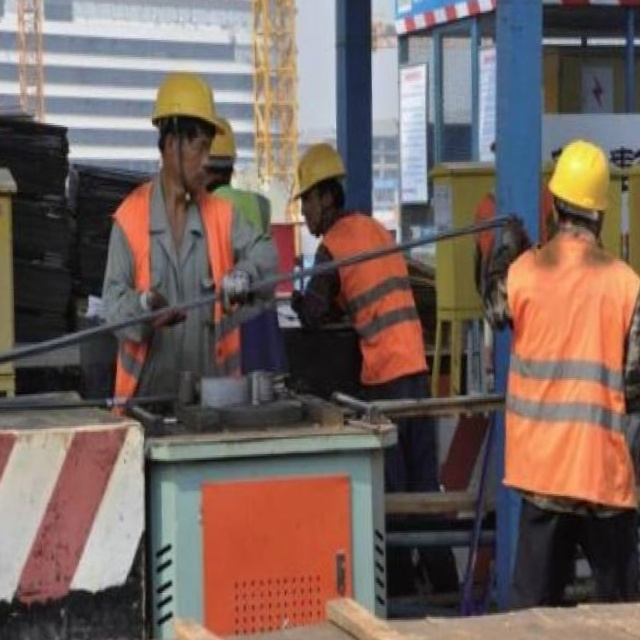Con_Casco: (548, 138, 613, 236)
Con_Chaleco: (496, 246, 640, 494)
